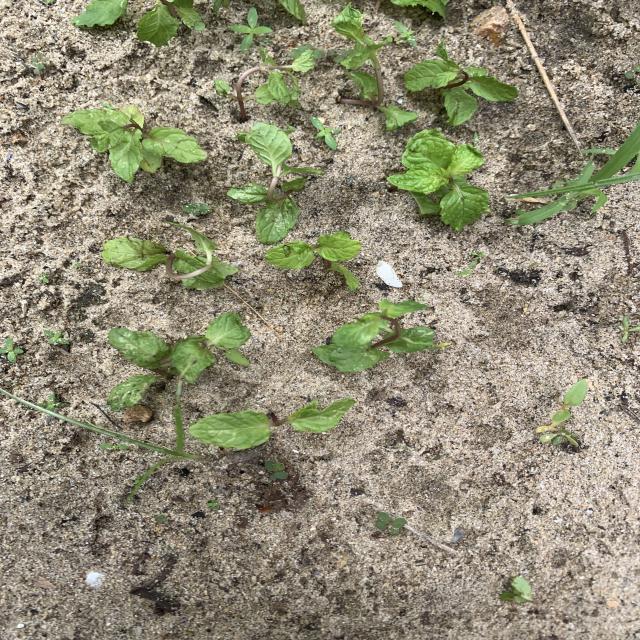crop: (108, 314, 249, 410), (228, 124, 323, 242), (62, 105, 206, 181), (388, 129, 489, 230), (404, 40, 518, 125), (102, 224, 238, 289), (313, 300, 436, 371), (188, 398, 355, 449), (214, 46, 321, 117), (72, 1, 203, 44), (265, 232, 360, 289), (341, 72, 415, 130), (332, 3, 390, 70), (393, 1, 448, 15), (279, 1, 304, 20)
weed: (8, 383, 200, 499), (507, 123, 639, 224), (230, 8, 271, 50), (553, 379, 587, 422), (536, 421, 578, 446), (312, 117, 339, 148), (375, 512, 407, 535), (0, 338, 23, 362), (617, 316, 639, 341), (395, 21, 415, 44), (265, 461, 287, 479), (182, 203, 211, 215), (31, 53, 49, 72), (44, 330, 68, 344), (40, 395, 65, 408), (456, 262, 478, 275), (100, 442, 127, 450), (213, 1, 229, 11), (154, 515, 167, 523), (37, 274, 48, 283), (207, 501, 218, 507), (73, 263, 79, 267)
